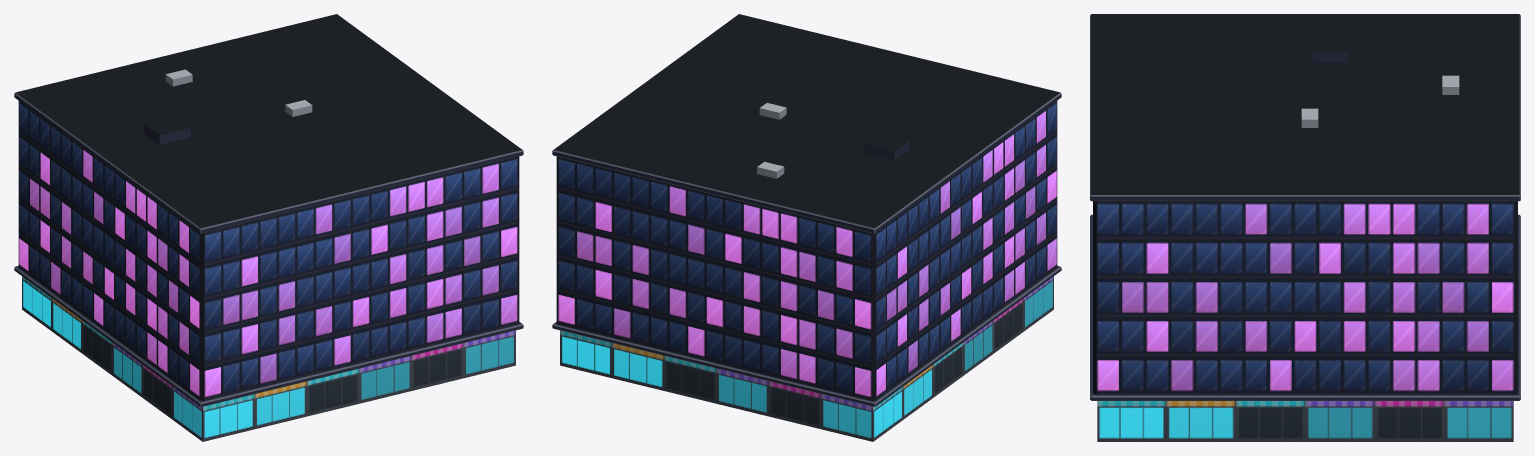
Rendered from building-36x36x24.glb.
3 renders of one model, left to right at view 1: azimuth 30°, elevation 25°; view 2: azimuth 150°, elevation 25°; view 3: azimuth 270°, elevation 25°, orthographic. The views are drawn at different scales.
Visible parts, largest first — view 1: building-36x36x24; view 2: building-36x36x24; view 3: building-36x36x24.
Part boxes in pixels (box(x1,y1,x2,y2)): building-36x36x24: box(14, 14, 523, 441); building-36x36x24: box(552, 14, 1061, 441); building-36x36x24: box(1090, 14, 1520, 441).
Bounding box in the file's own units: 36 × 24 × 36.
1 material, 1 textured.
